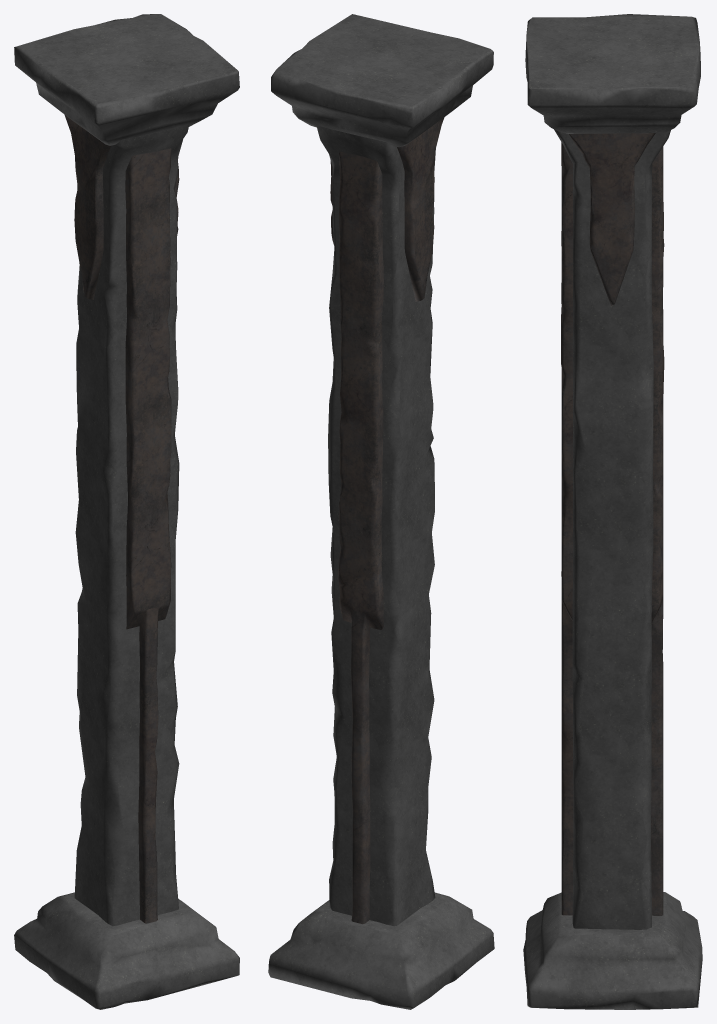
File: SM_BossRoomColumn.fbx
3 views of the same model, side by side, from view 1: azimuth 30°, elevation 25°; view 2: azimuth 150°, elevation 25°; view 3: azimuth 270°, elevation 25° (orthographic). The views are drawn at different scales.
Parts seen in each view (by area): view 1: SM_BossRoomColumn_LOD0; view 2: SM_BossRoomColumn_LOD0; view 3: SM_BossRoomColumn_LOD0.
Part boxes in pixels (x1,y1,x2,y2): SM_BossRoomColumn_LOD0: (14, 14, 239, 1009); SM_BossRoomColumn_LOD0: (268, 14, 494, 1009); SM_BossRoomColumn_LOD0: (523, 14, 702, 1009).
Size of the model in its own units: 157 by 159 by 900.
Materials: 2 (2 with a texture image).
